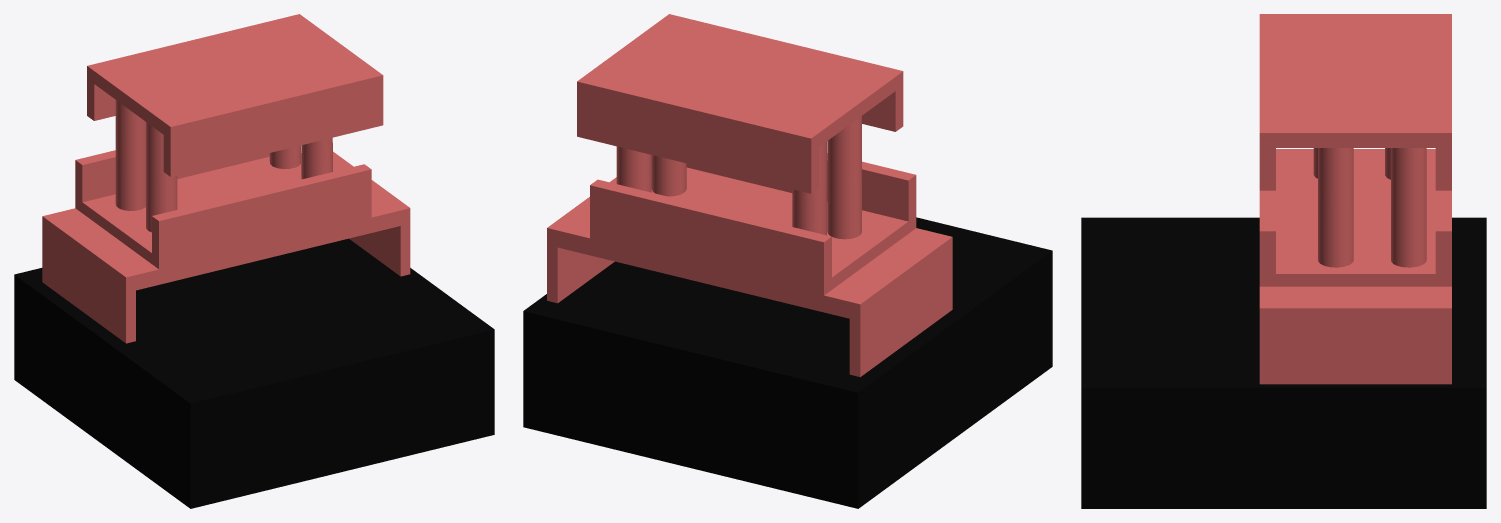
Rendered from RRU2.glb.
The picture shows the model from 3 angles, left to right: view 1: azimuth 30°, elevation 25°; view 2: azimuth 150°, elevation 25°; view 3: azimuth 270°, elevation 25°; orthographic projection. The views are drawn at different scales.
Bounding box in the file's own units: 0.3093 × 0.3022 × 0.3108.
